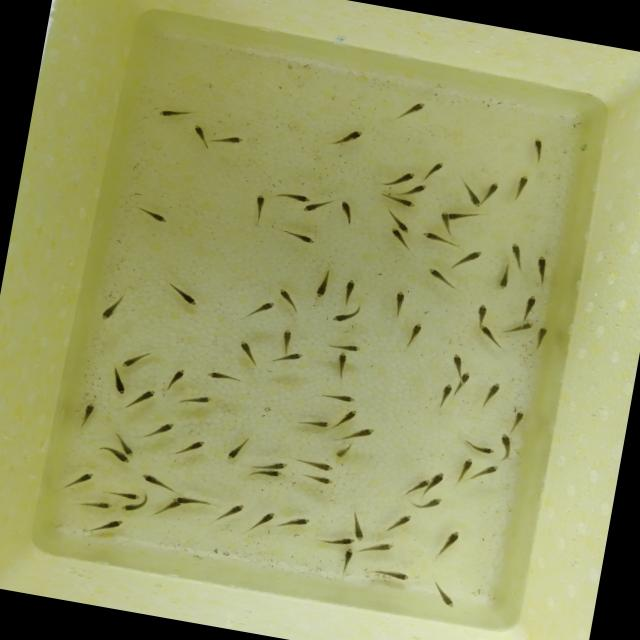fingerling: (455, 177, 487, 210), (162, 282, 201, 308), (448, 244, 484, 272), (126, 384, 160, 413), (432, 528, 460, 563), (329, 122, 364, 150), (382, 208, 417, 236), (374, 564, 416, 587), (278, 224, 318, 248), (459, 435, 498, 459), (158, 100, 196, 123), (268, 347, 309, 368), (394, 97, 427, 123), (63, 466, 96, 492), (142, 417, 176, 442), (420, 158, 449, 187), (474, 320, 504, 348), (134, 204, 172, 226), (122, 345, 154, 371), (360, 536, 397, 558), (247, 508, 276, 536), (494, 251, 514, 291), (298, 468, 338, 488), (170, 493, 214, 511), (504, 316, 537, 340), (427, 268, 463, 290), (278, 511, 312, 534), (388, 226, 418, 252), (506, 239, 528, 274), (318, 530, 356, 550), (96, 446, 134, 466), (97, 297, 124, 325), (190, 124, 217, 152), (382, 511, 412, 536), (532, 252, 554, 286), (432, 583, 459, 610), (275, 284, 303, 310), (308, 272, 332, 302), (72, 496, 116, 512), (338, 424, 373, 444), (215, 501, 244, 525), (532, 318, 551, 354), (506, 174, 528, 205), (402, 474, 433, 496), (94, 514, 125, 536), (382, 169, 414, 190), (518, 292, 539, 324), (174, 435, 204, 457), (388, 289, 408, 322), (115, 433, 141, 458), (236, 338, 262, 363), (224, 436, 247, 464), (244, 465, 284, 481), (480, 381, 502, 410), (297, 195, 328, 215), (496, 431, 516, 462), (106, 366, 128, 394), (530, 137, 549, 169), (332, 408, 357, 432), (470, 300, 494, 325), (339, 278, 359, 308), (381, 192, 416, 209), (297, 456, 334, 472), (328, 339, 362, 356), (250, 192, 268, 224), (216, 132, 248, 150), (204, 369, 242, 384), (328, 307, 357, 326), (249, 297, 275, 318), (176, 391, 212, 406), (422, 492, 449, 512), (270, 190, 311, 203), (446, 210, 484, 224), (426, 468, 448, 492), (456, 454, 474, 483), (338, 196, 358, 222), (406, 317, 426, 343), (155, 498, 181, 518), (137, 472, 169, 488), (472, 462, 502, 479), (166, 368, 187, 392), (320, 390, 356, 404), (340, 546, 356, 577), (254, 456, 287, 471), (422, 230, 451, 247), (78, 399, 96, 426), (436, 383, 452, 413), (448, 348, 466, 374), (436, 208, 454, 233), (333, 349, 350, 375), (109, 488, 140, 502), (300, 415, 330, 429), (484, 178, 498, 208), (404, 181, 427, 199), (350, 519, 367, 543), (509, 408, 526, 432), (278, 324, 294, 347), (122, 499, 146, 514), (456, 366, 472, 386), (334, 443, 352, 460)
